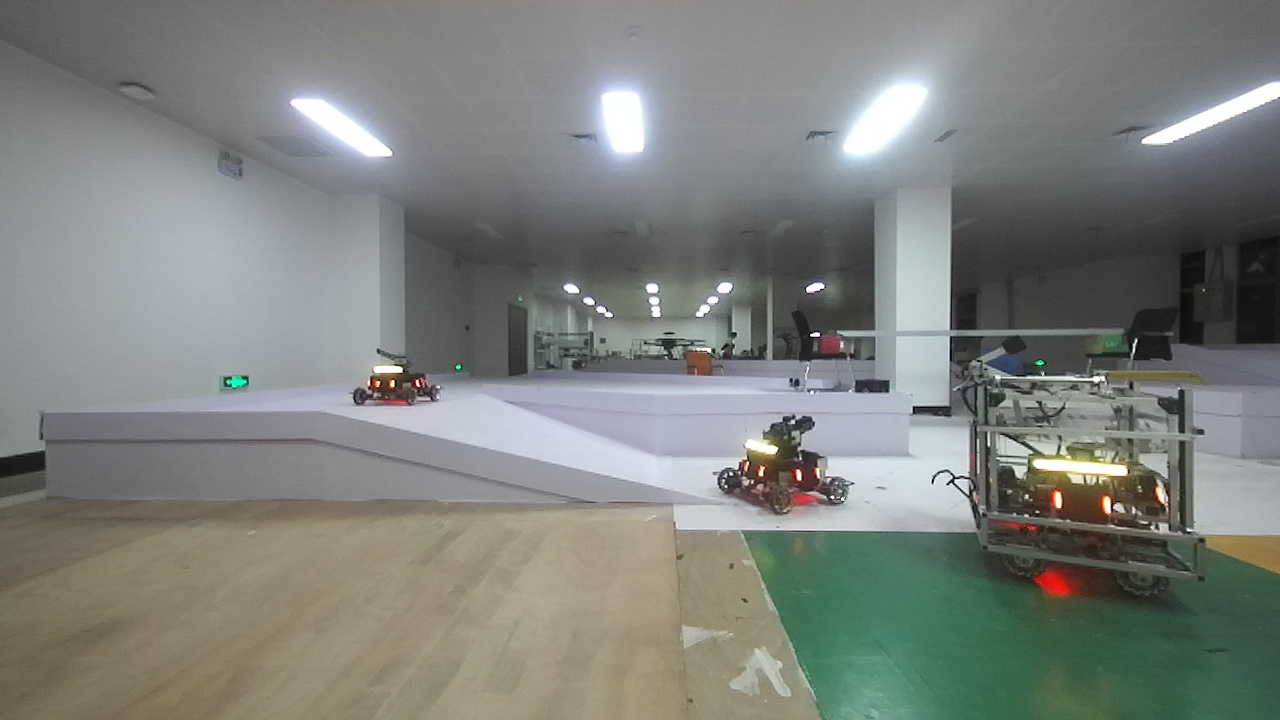car: (944, 346, 1217, 615), (702, 409, 858, 528), (339, 343, 446, 424)
